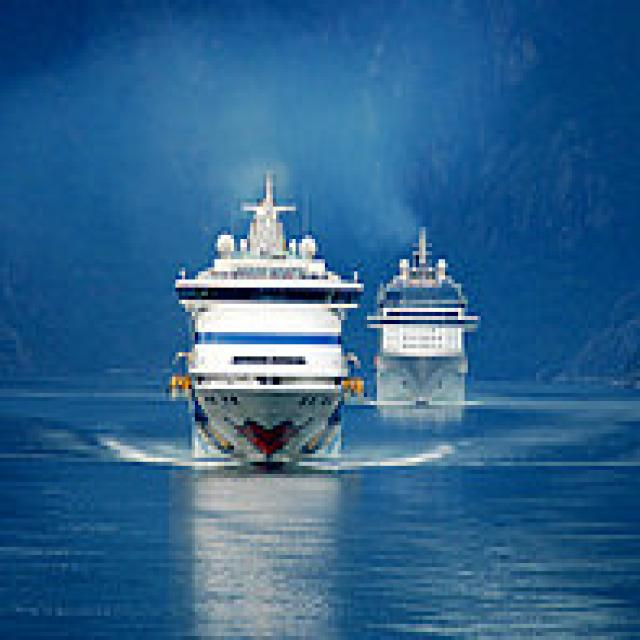Cruise: (172, 166, 367, 466), (364, 219, 487, 405)
